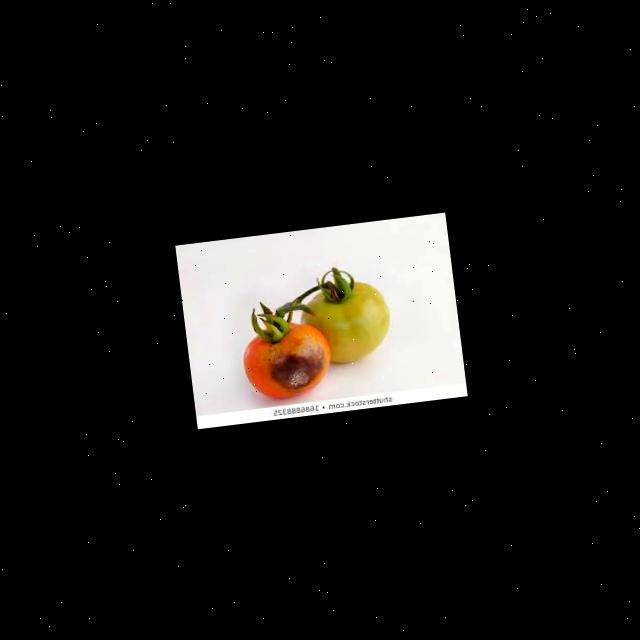tomato: (222, 287, 336, 410)
